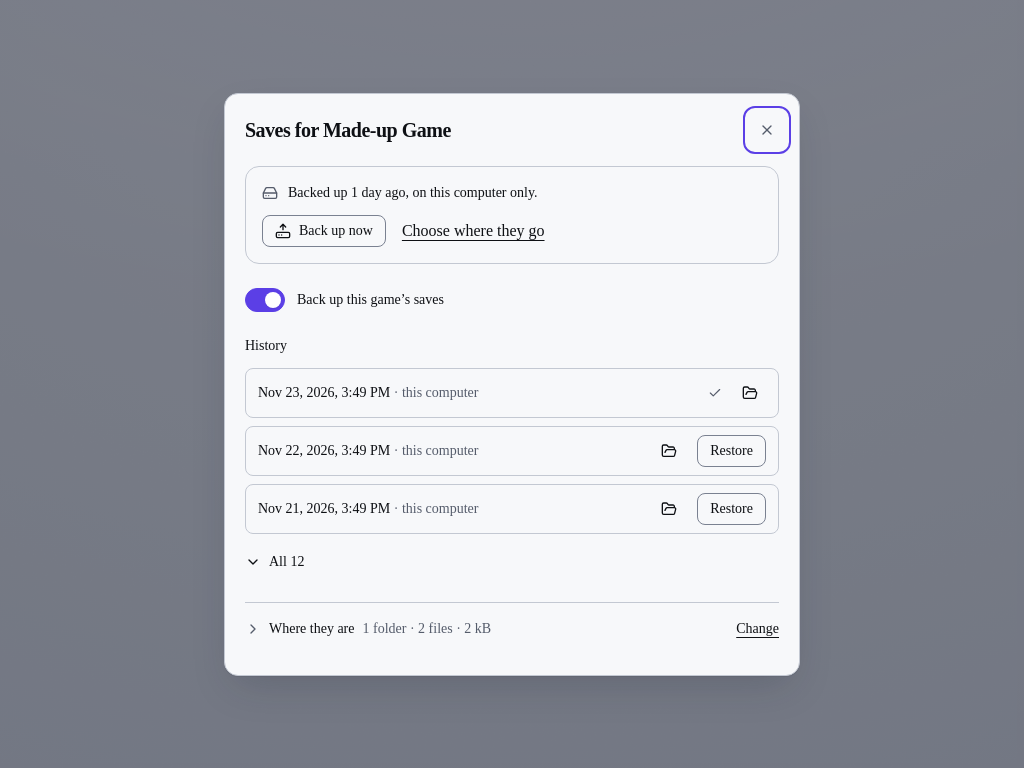
Test case: a game’s saves, the important first (ADR 009, decision 5) › show the newest three backups, and all of them once asked
This screenshot has width=1024, height=768.
Check: the switch labelled "Back up this game’s saves" is shown, box [245,288,285,312]
Step 1. Click the button "All 12" → click(275, 562), box [233,546,316,578]
(page scrolled)
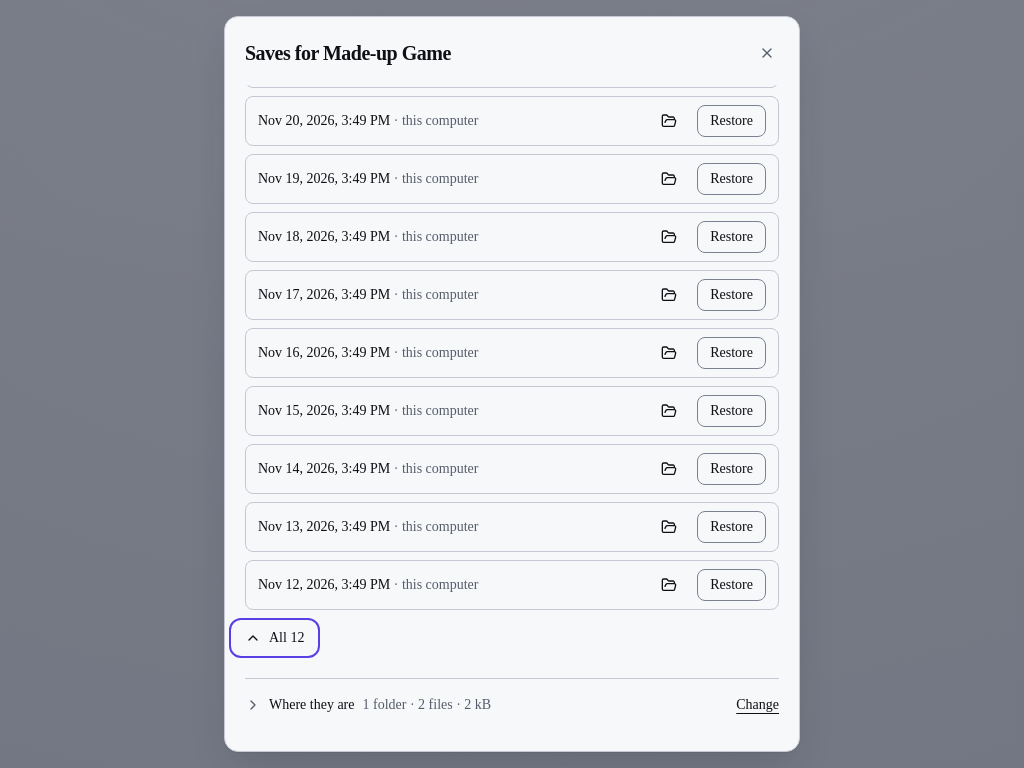
Check: the button "All 12" is expanded, box [233,622,316,654]
